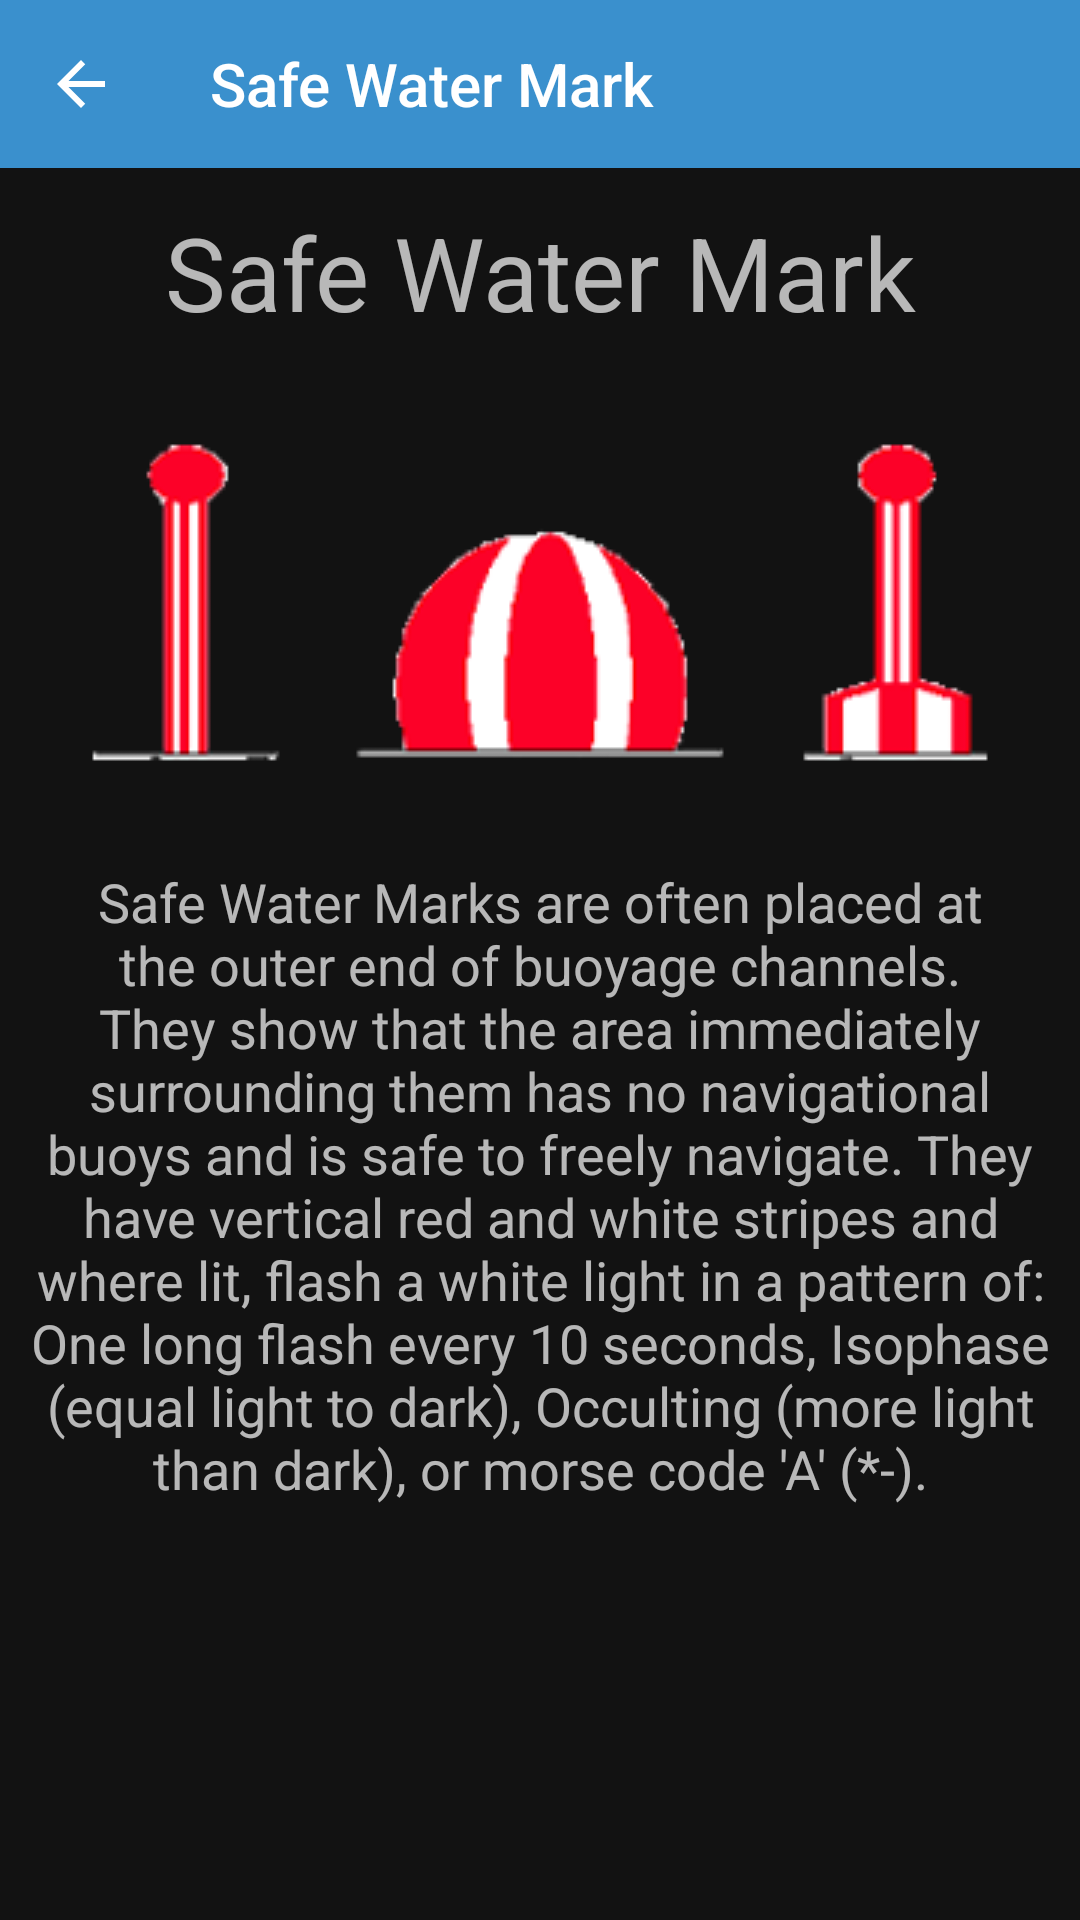

Locate icon controls on the screen. Image size 1080px×1920px, boxes as {"x1": x1, "y1": y1, "x2": x2, "y2": y2}.
arrow back: {"x1": 57, "y1": 60, "x2": 105, "y2": 108}
